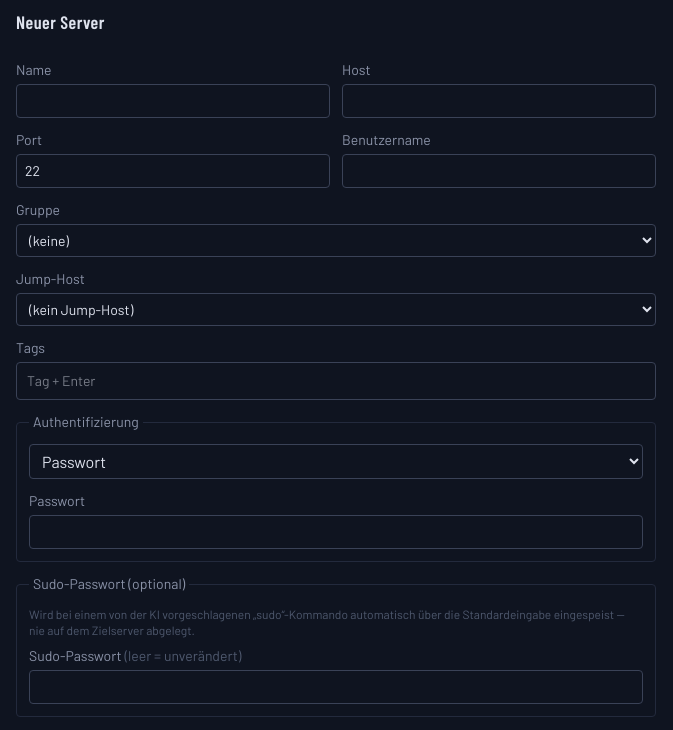
Test case: ServerForm — Anmeldeart Schlüsseldatei (Spec 0076, B-1..B-4) › behauptet bei KEY_FILE_TOO_LARGE keine nie gemessenen Rechte (spec-reviewer-Fund, Runde 2)
The width and height of the screenshot is (673, 730).
Select "Schlüsseldatei" in the 3rd dropdown at x=336, y=462, box left=29, top=444, right=643, bottom=479
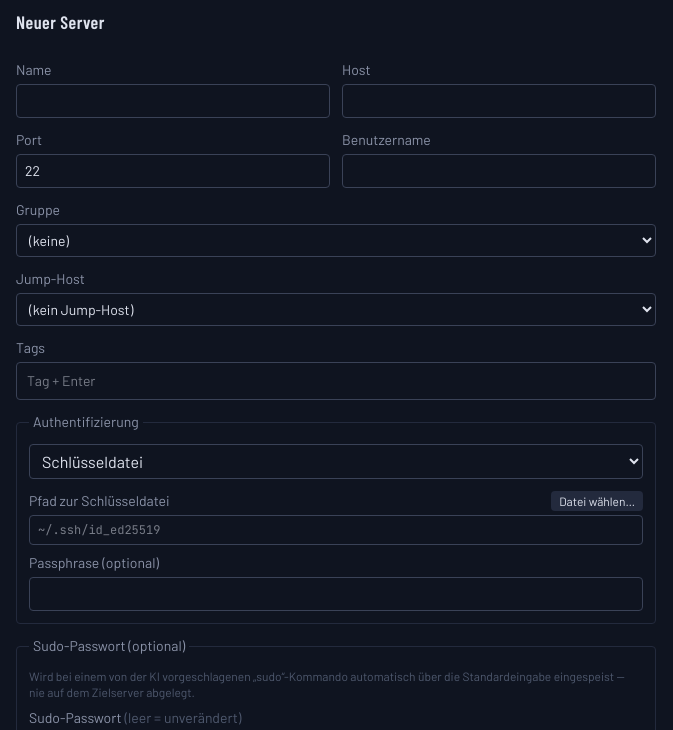
Type "/home/deploy/.ssh/id_ed25519" into the field with placeholder "~/.ssh/id_ed25519" at x=336, y=530, box left=29, top=515, right=643, bottom=545
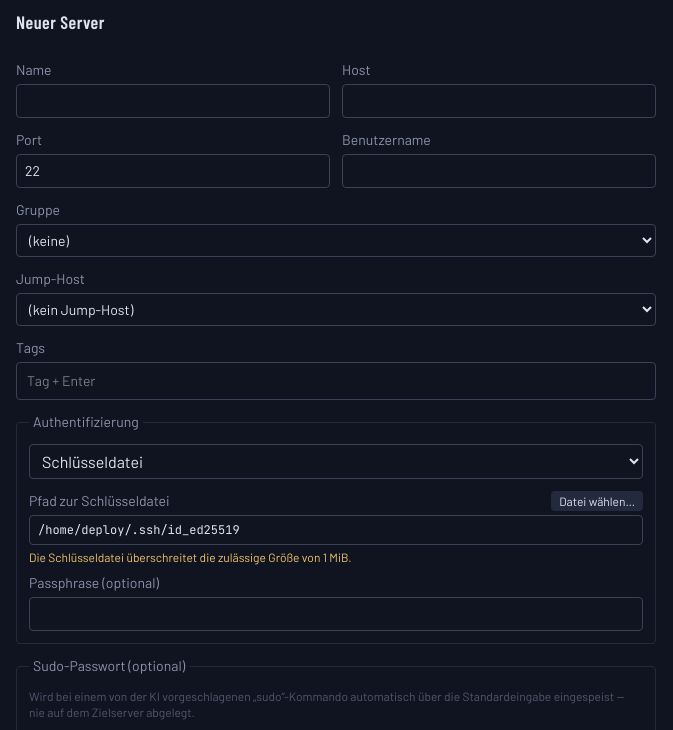
Check: the list item "Die Schlüsseldatei überschreitet die zulässige Größe von 1 MiB." is shown, box left=29, top=550, right=352, bottom=564
